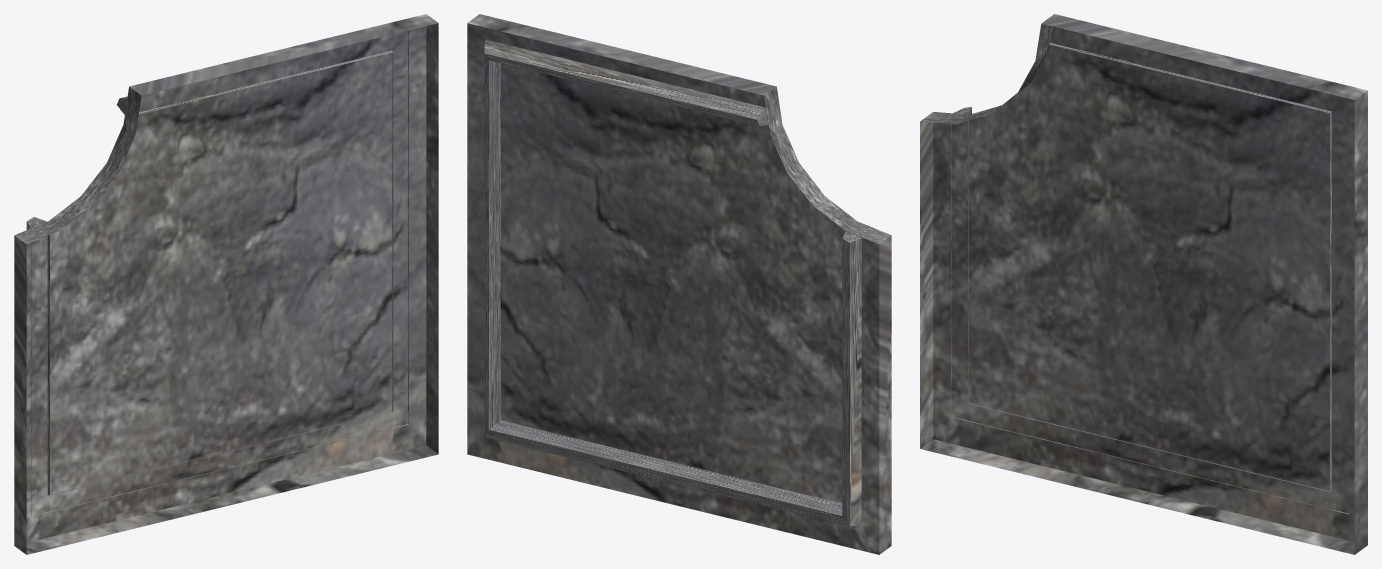
File: IcoBlanck.fbx
3 renders of one model, left to right at view 1: azimuth 30°, elevation 25°; view 2: azimuth 150°, elevation 25°; view 3: azimuth 330°, elevation 25°, orthographic. The views are drawn at different scales.
Visible parts, largest first — view 1: Ico2; view 2: Ico2; view 3: Ico2.
Boxes of the visible parts, box(x1,y1,x2,y2) form: Ico2: box(14, 14, 438, 554); Ico2: box(467, 14, 891, 554); Ico2: box(920, 14, 1367, 554).
Bounding box in the file's own units: 5.62 × 5.62 × 0.4956.
